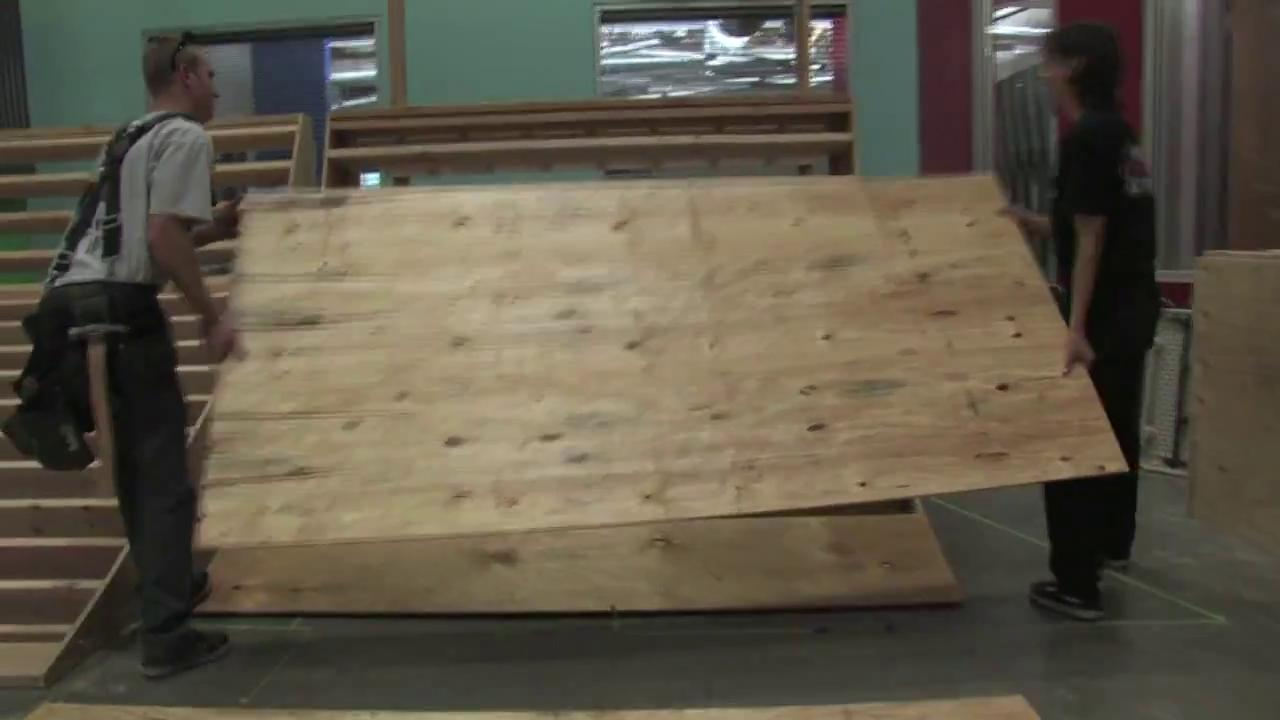victim: (62, 27, 262, 679), (992, 22, 1164, 628)
